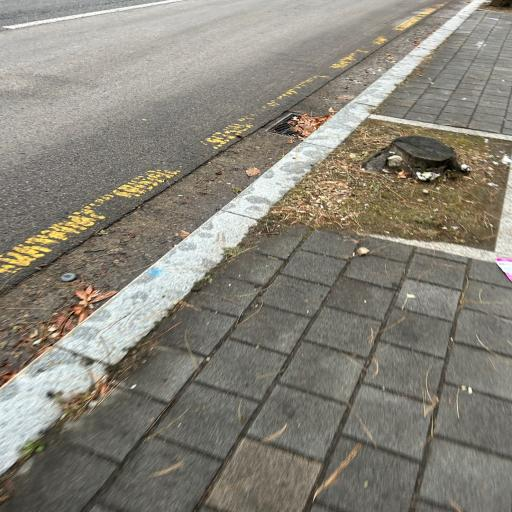debris: (290, 113, 327, 138)
drain: (266, 111, 329, 139)
